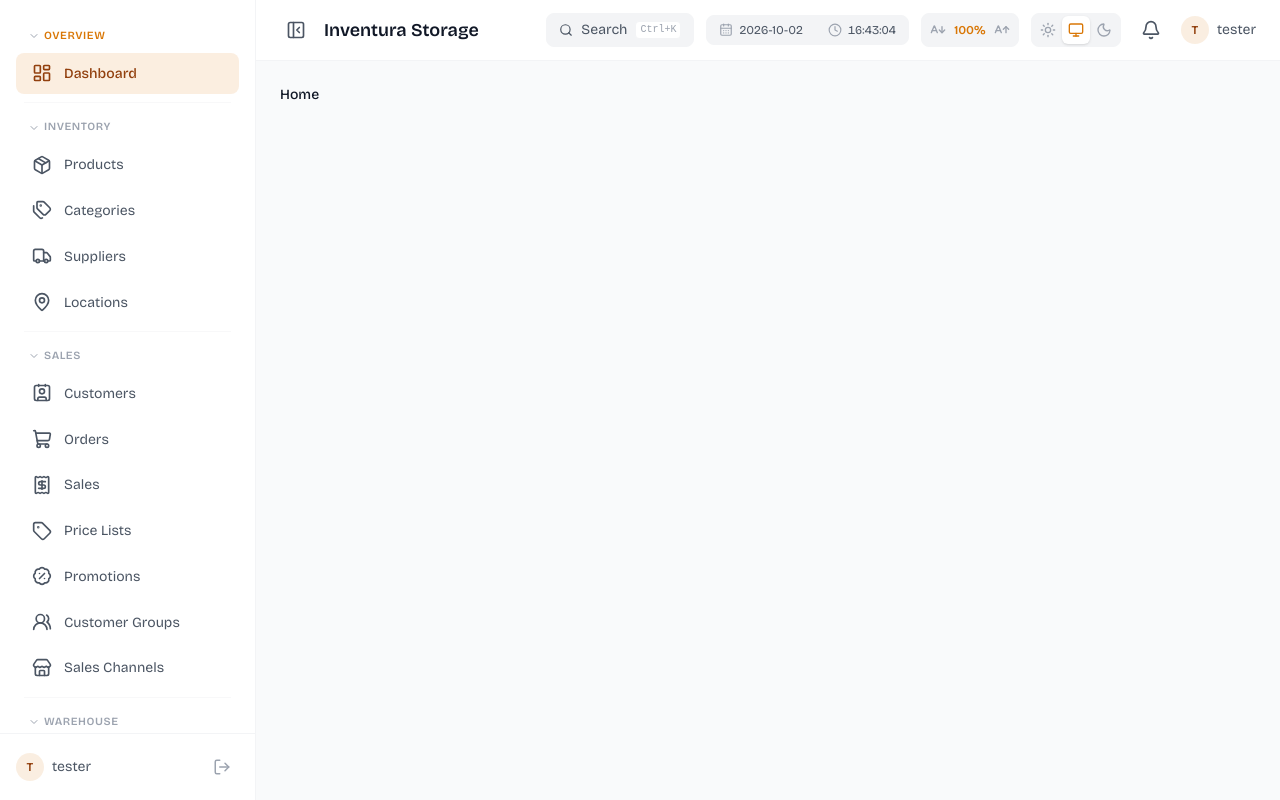
it: Layout › renders backdrop in overlay mode on tablet when collapsed
Click the button titled "Collapse sidebar": (296, 30) x1=280 y1=14 x2=312 y2=46
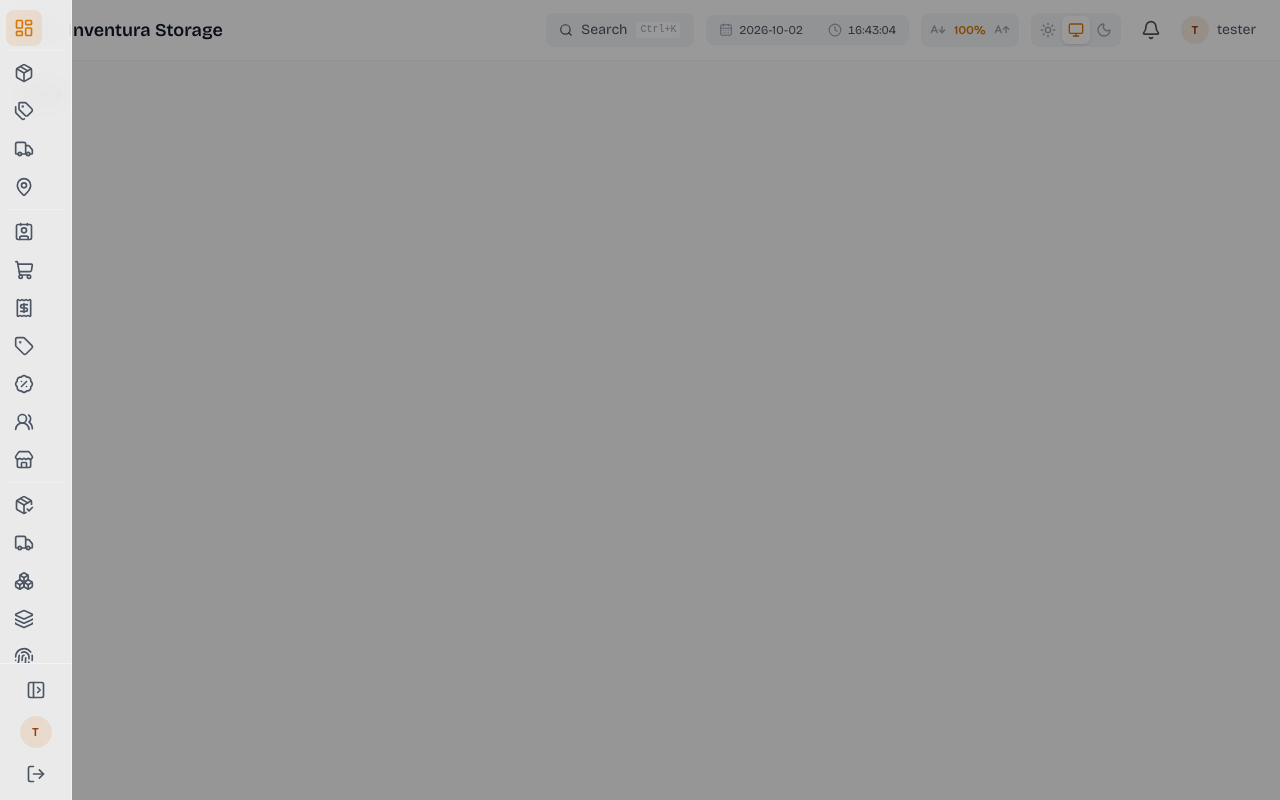
Now the element with class "animate-fade-in" is shown
